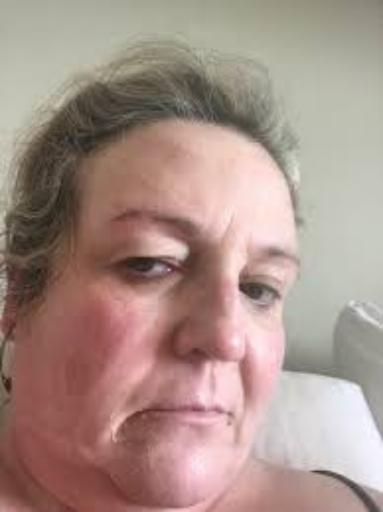left_eye: (240, 282, 284, 308)
left_lip_corner: (217, 400, 243, 430)
right_eye: (110, 257, 190, 286)
right_lip_corner: (122, 402, 158, 428)
